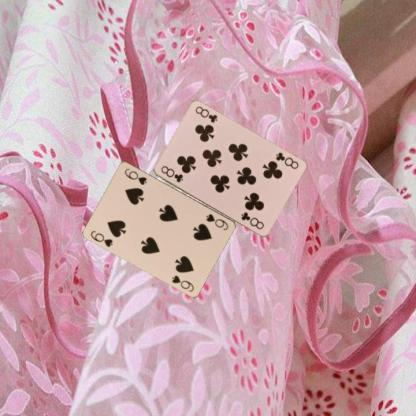6s: (204, 211, 230, 231), (88, 228, 114, 248)
8c: (158, 163, 184, 184), (273, 150, 299, 171)
